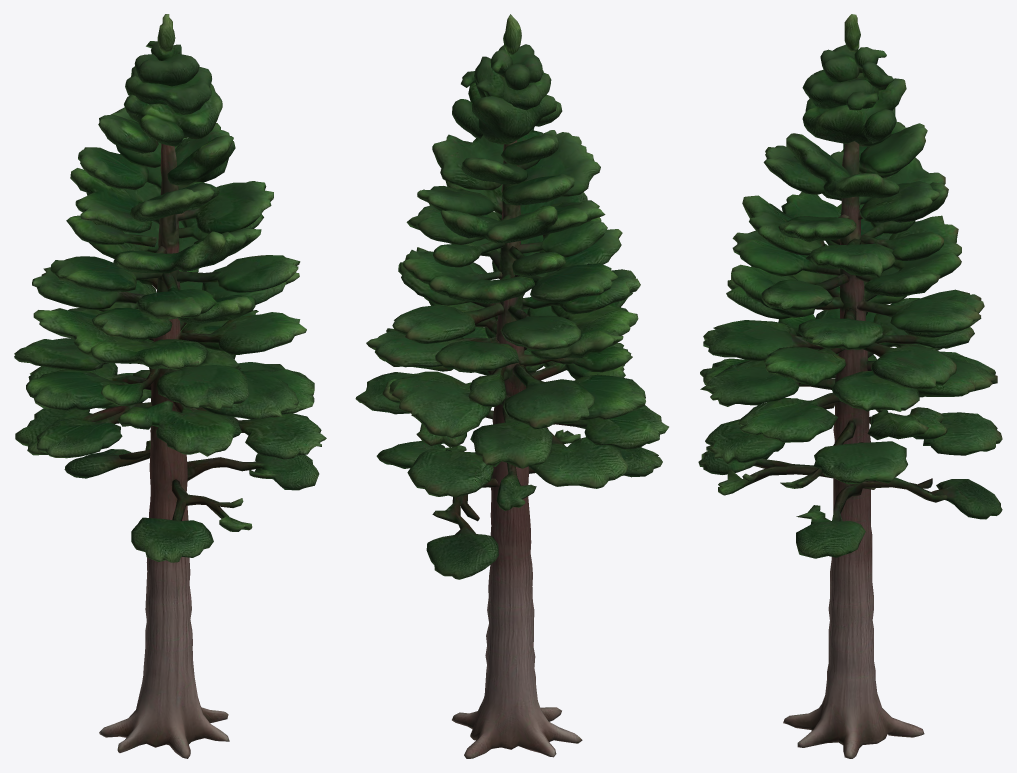
File: pine.glb
3 renders of one model, left to right at view 1: azimuth 30°, elevation 25°; view 2: azimuth 150°, elevation 25°; view 3: azimuth 270°, elevation 25°, orthographic.
Parts seen in each view (by area): view 1: pine; view 2: pine; view 3: pine.
Part boxes in pixels (box(x1,y1,x2,y2)): pine: box(14, 14, 326, 758); pine: box(355, 14, 668, 758); pine: box(698, 14, 1002, 758).
Size of the model in its own units: 0.7789 by 1.91 by 0.7319.
1 material, 1 textured.
